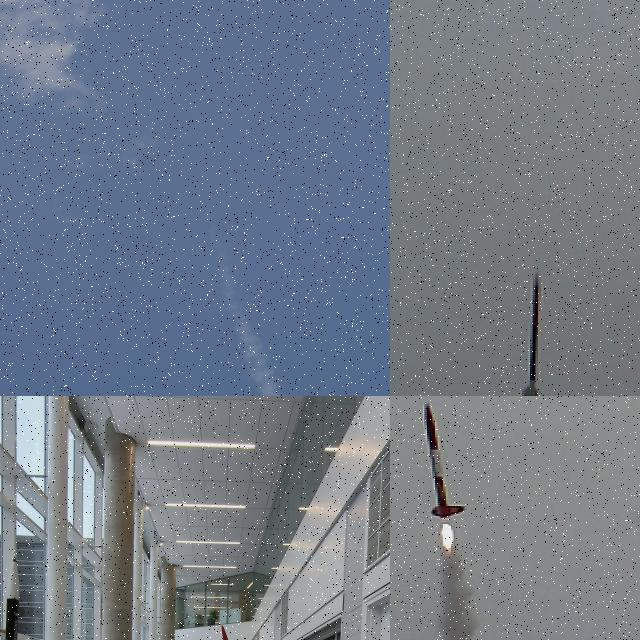Rocket: (422, 403, 468, 519), (519, 269, 541, 396), (5, 557, 19, 640)
